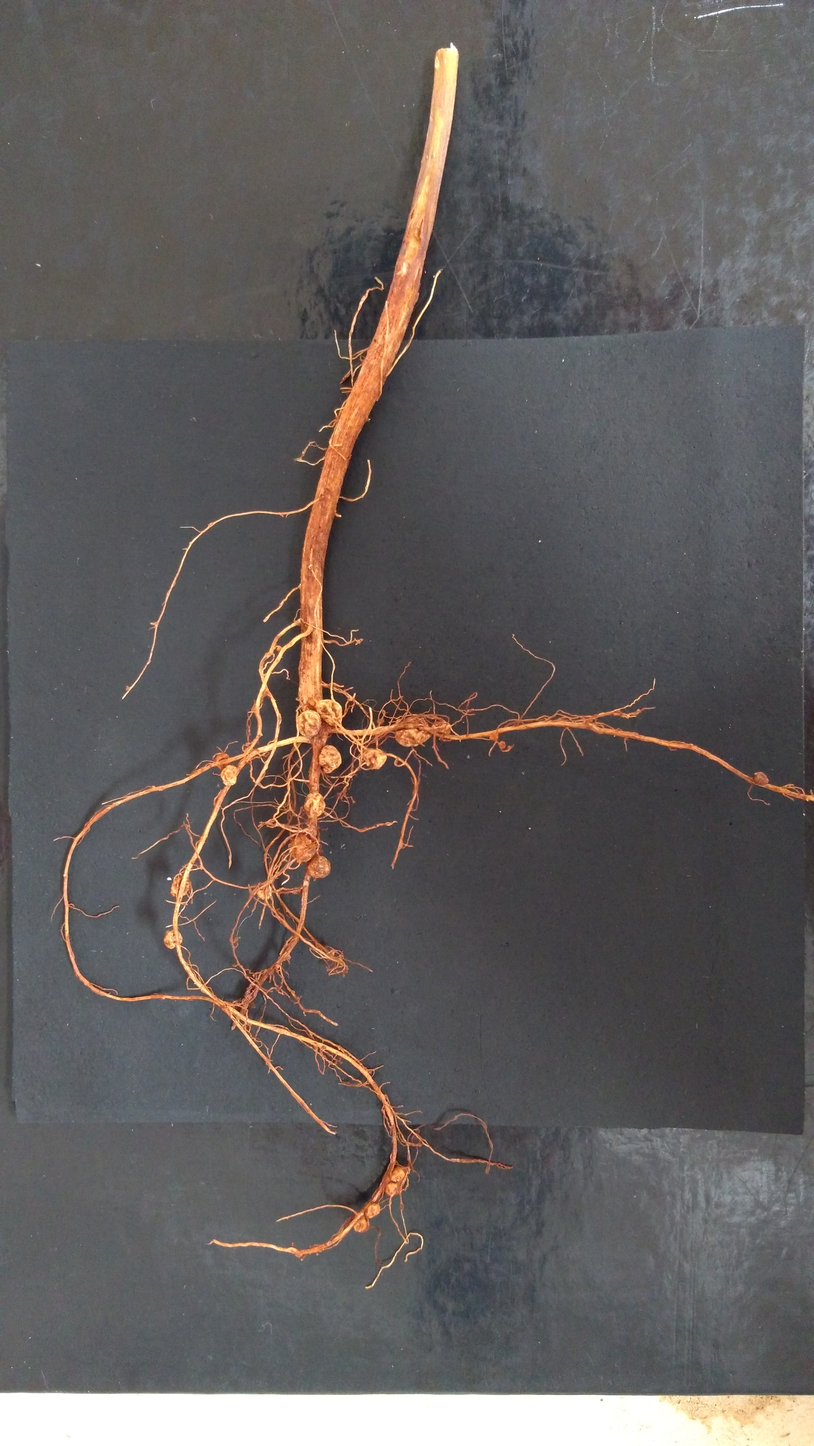nodule: (395, 716, 433, 747), (289, 832, 317, 863), (317, 744, 342, 774), (315, 699, 342, 726), (383, 1168, 408, 1197), (297, 709, 321, 738), (303, 791, 326, 819), (361, 747, 387, 770), (307, 855, 331, 879), (170, 876, 192, 898), (163, 929, 185, 950), (219, 764, 238, 786), (431, 719, 453, 735), (212, 752, 230, 770), (363, 1201, 381, 1219), (353, 1214, 370, 1233), (256, 880, 272, 900), (753, 771, 771, 787), (489, 730, 498, 742), (498, 740, 505, 749), (376, 718, 385, 724), (276, 645, 282, 652)
